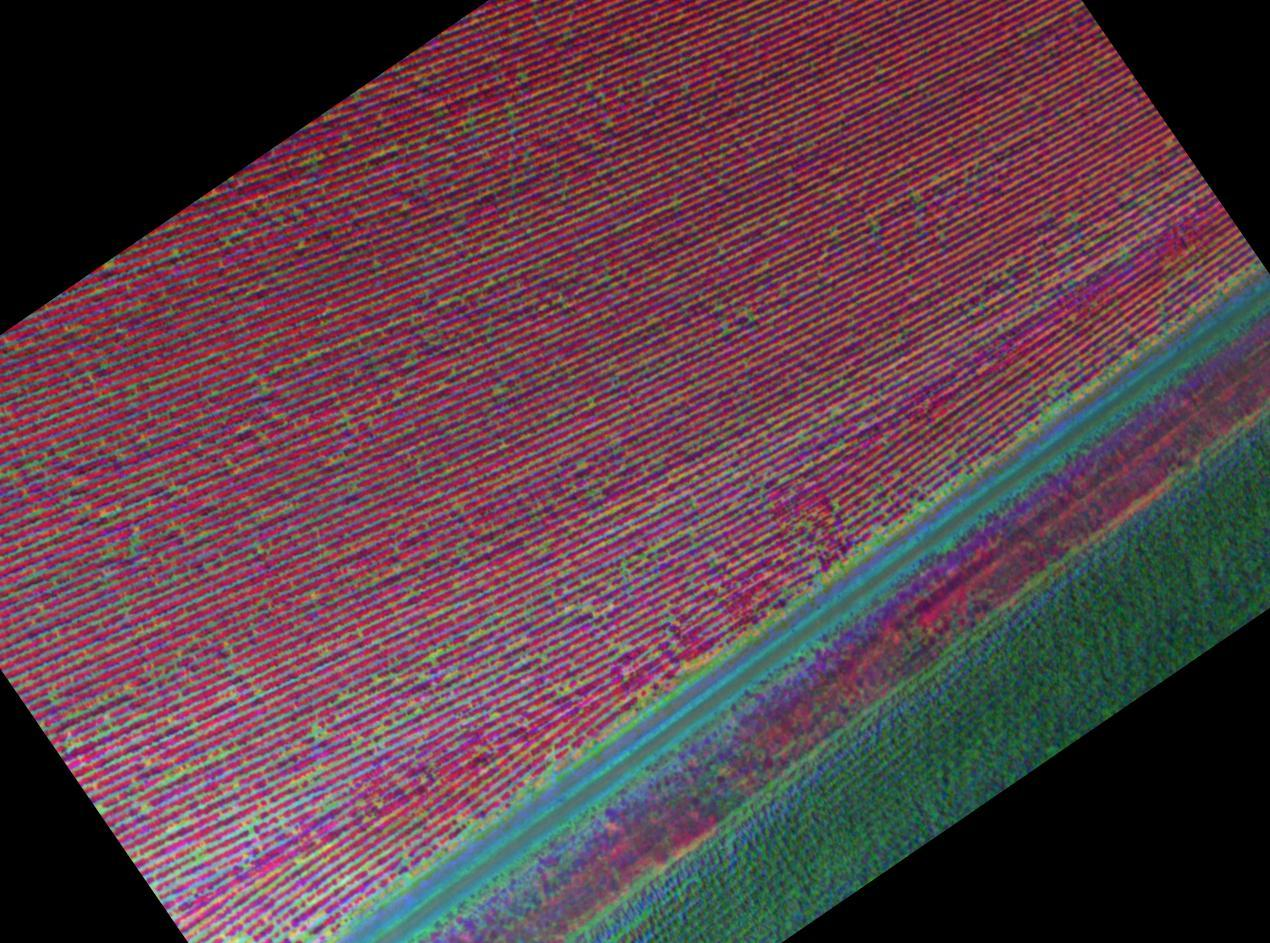dc: (237, 935, 246, 942), (832, 407, 840, 414), (620, 644, 627, 649), (1120, 246, 1125, 251)
